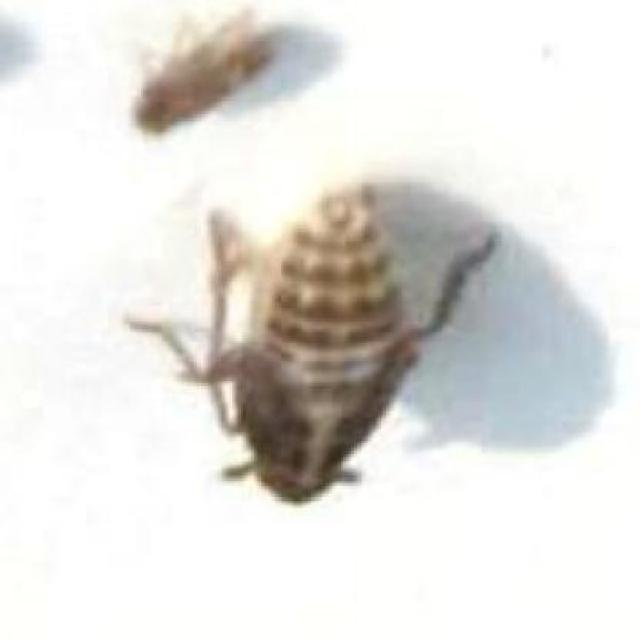brown-planthopper: (233, 168, 422, 510), (132, 9, 283, 137)
